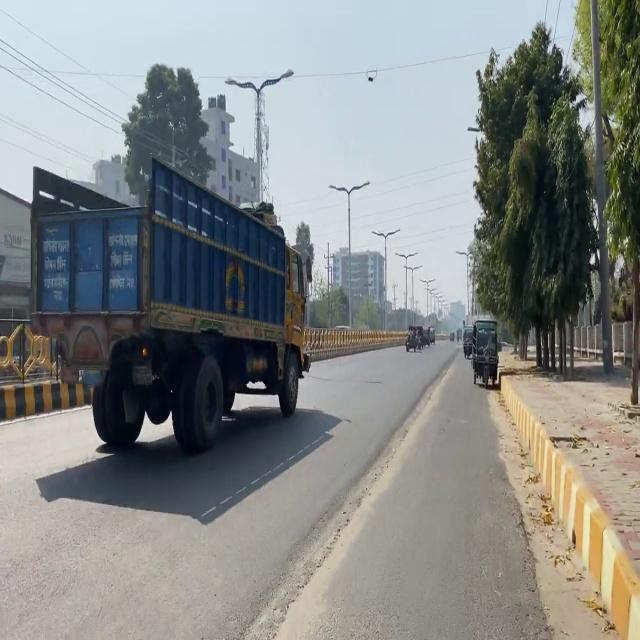Construction-barrier: (239, 452, 373, 640), (486, 385, 553, 638), (0, 377, 94, 426)
Fallen-tree: (462, 335, 473, 358)
Light-pole: (589, 0, 614, 373)
Pothole: (498, 373, 640, 640)
Traffic-cone: (28, 153, 312, 453), (470, 319, 499, 386)
